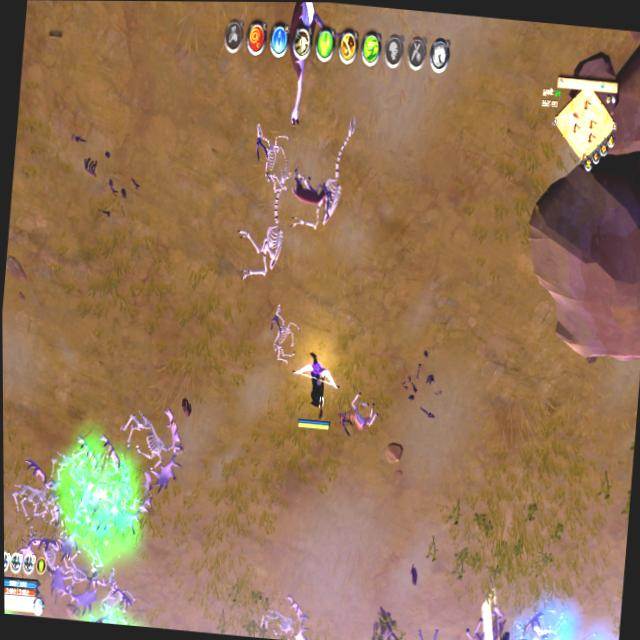mob: (274, 2, 332, 137), (336, 388, 380, 442), (463, 596, 507, 640)
ore: (288, 164, 335, 217)
red: (292, 351, 339, 436)
